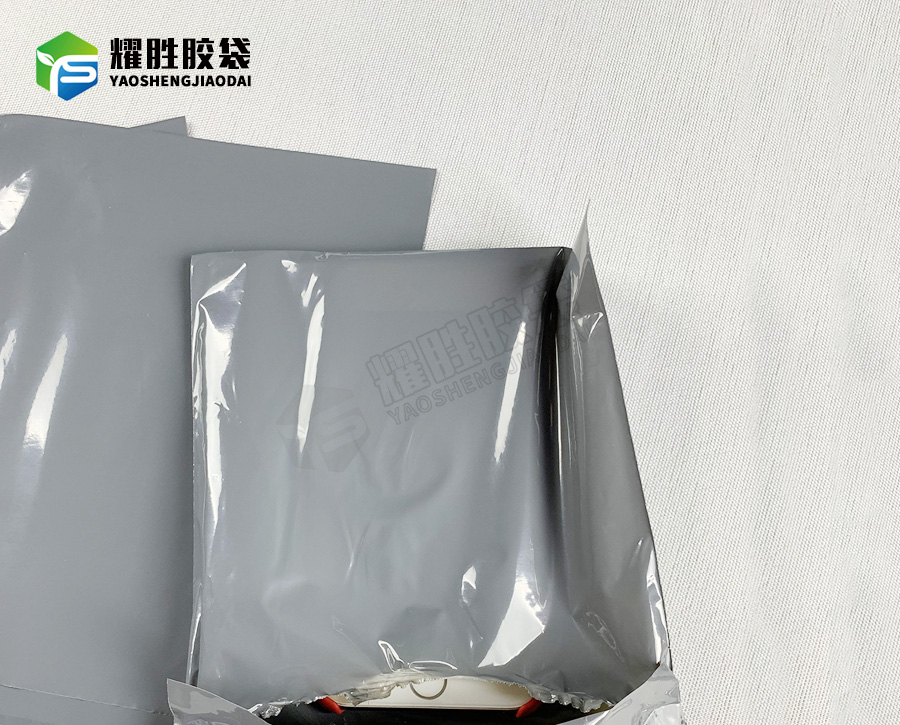塑料袋: (191, 240, 666, 695)
